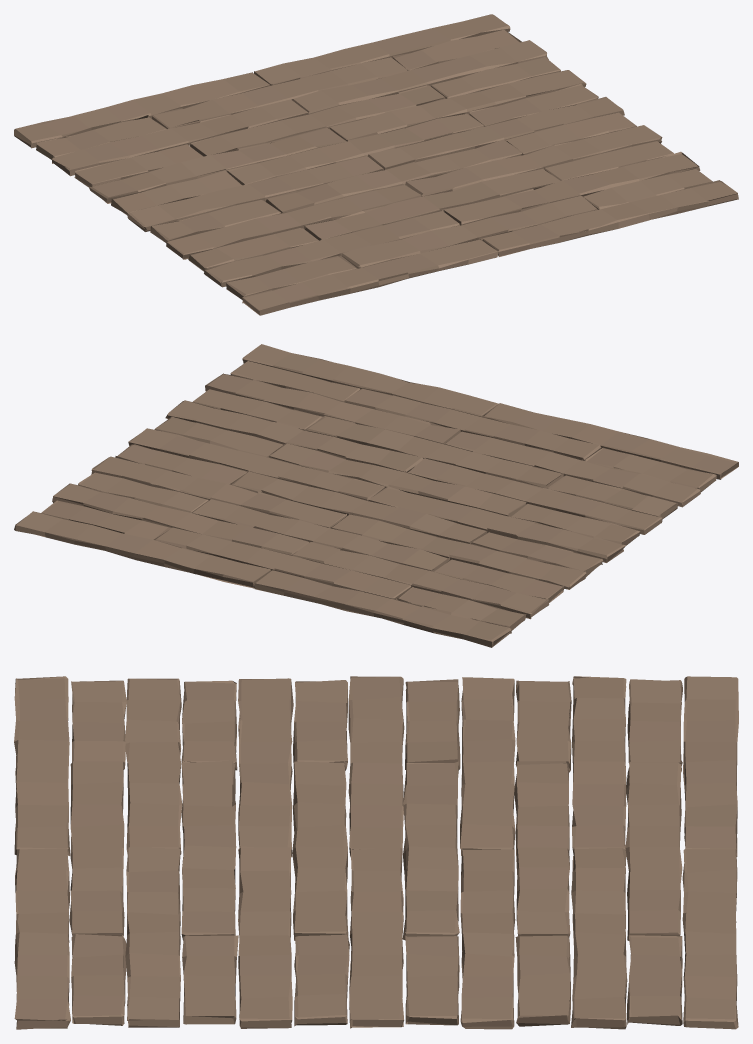
The model's file is hut_floor.fbx.
3 renders of one model, top to bottom at view 1: azimuth 30°, elevation 25°; view 2: azimuth 150°, elevation 25°; view 3: azimuth 270°, elevation 25°, orthographic. The views are drawn at different scales.
Parts seen in each view (by area): view 1: board.004; view 2: board.004; view 3: board.004.
Part boxes in pixels (box(x1,y1,x2,y2)): board.004: box(14, 14, 738, 315); board.004: box(14, 344, 738, 647); board.004: box(14, 676, 738, 1029).
Bounding box in the file's own units: 1877 × 40.3 × 1669.
